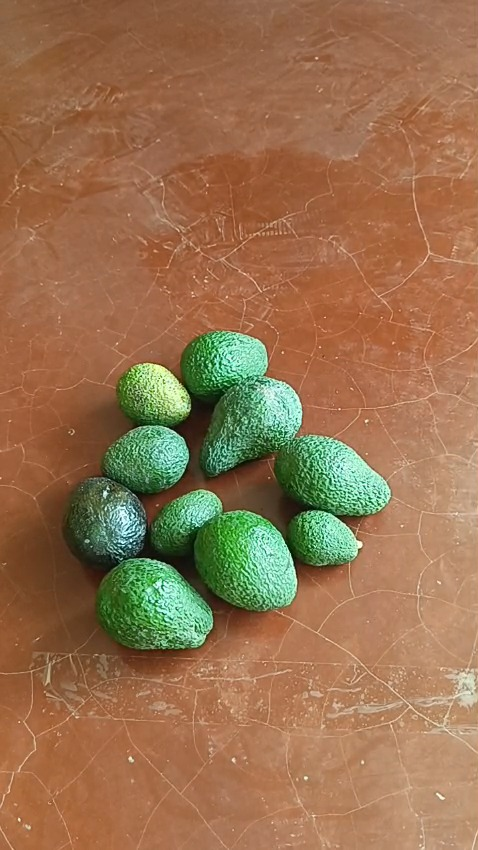Primera: (94, 557, 215, 648), (199, 376, 303, 477), (194, 510, 296, 610), (273, 434, 390, 515), (62, 476, 150, 568), (179, 329, 267, 400)
Segunda: (101, 425, 189, 494), (114, 361, 192, 426)
Tercera: (149, 488, 224, 557), (283, 508, 362, 568)
